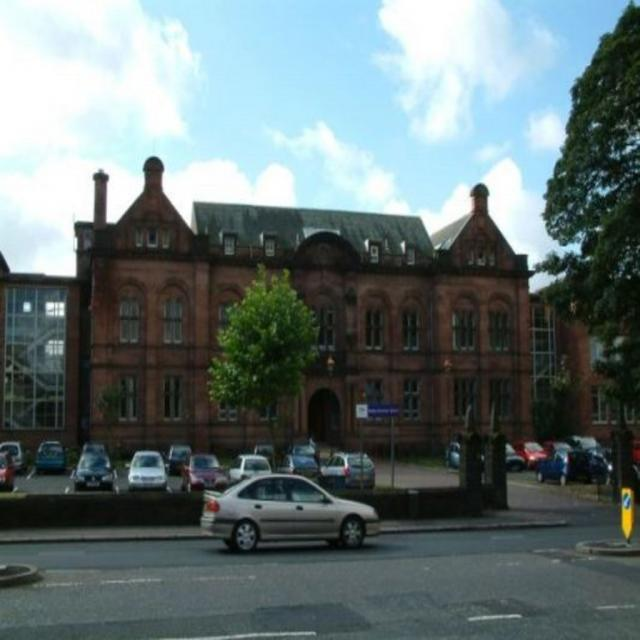truck: (0, 442, 377, 555), (445, 434, 637, 484)
